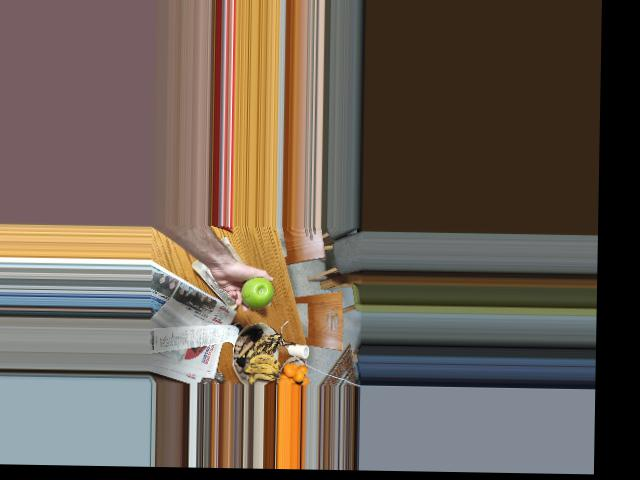apple: (238, 276, 279, 310)
